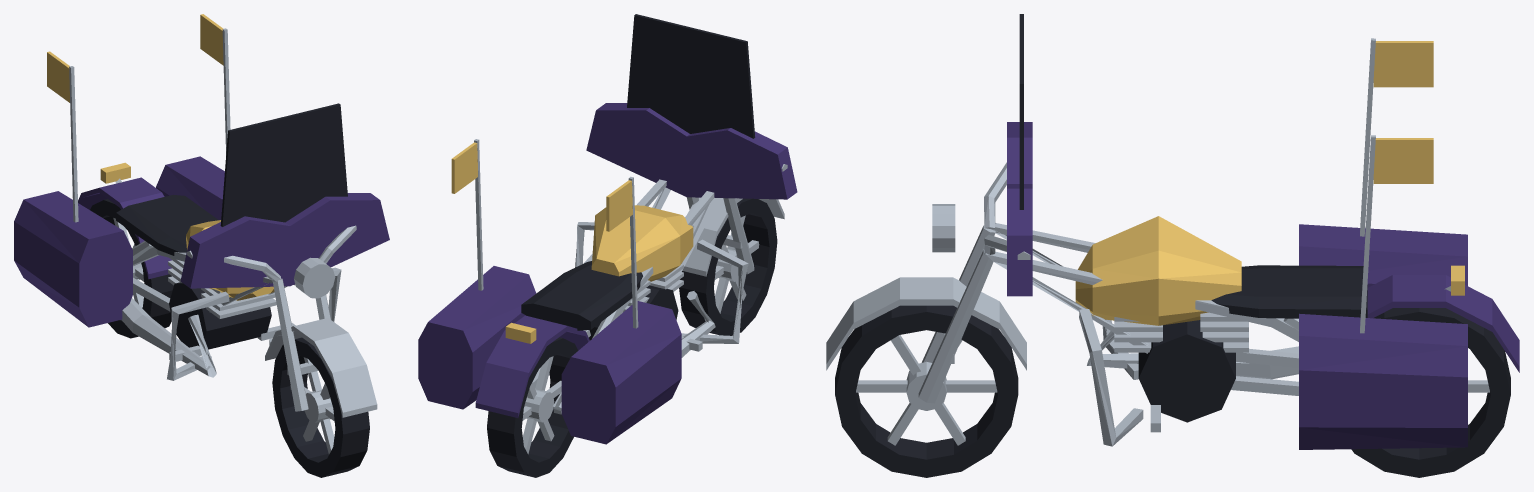
Rendered from touring-flagship.glb.
3 views of the same model, side by side, from view 1: azimuth 30°, elevation 25°; view 2: azimuth 150°, elevation 25°; view 3: azimuth 270°, elevation 25° (orthographic). The views are drawn at different scales.
Visible parts, largest first — view 1: bike_body, wheel_front, fork_mesh, wheel_rear; view 2: bike_body, wheel_front, wheel_rear, fork_mesh; view 3: bike_body, wheel_front, fork_mesh, wheel_rear.
Boxes of the visible parts, box(x1,y1,x2,y2) form: bike_body: box(14, 14, 389, 380); wheel_front: box(272, 337, 369, 477); fork_mesh: box(187, 225, 377, 417); wheel_rear: box(90, 199, 173, 338); bike_body: box(418, 14, 797, 444); wheel_front: box(679, 198, 777, 335); wheel_rear: box(487, 337, 578, 477); fork_mesh: box(682, 164, 787, 276); bike_body: box(932, 14, 1519, 449); wheel_front: box(835, 305, 1018, 477); fork_mesh: box(826, 162, 1030, 403); wheel_rear: box(1351, 308, 1510, 477).
Size of the model in its own units: 1.04 by 1.62 by 2.42.
